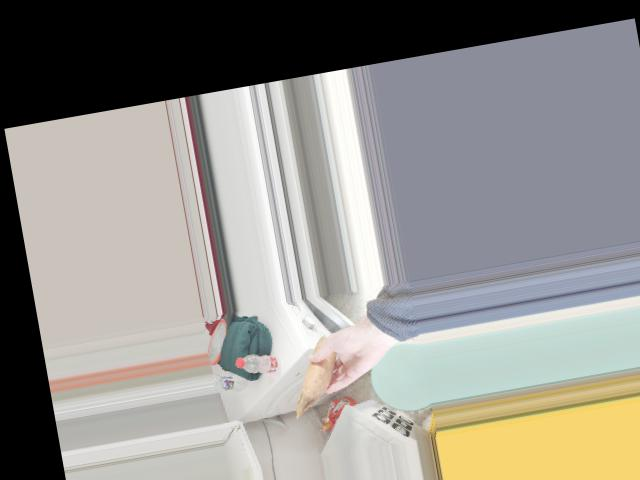sweet_potato: (296, 342, 345, 395)
